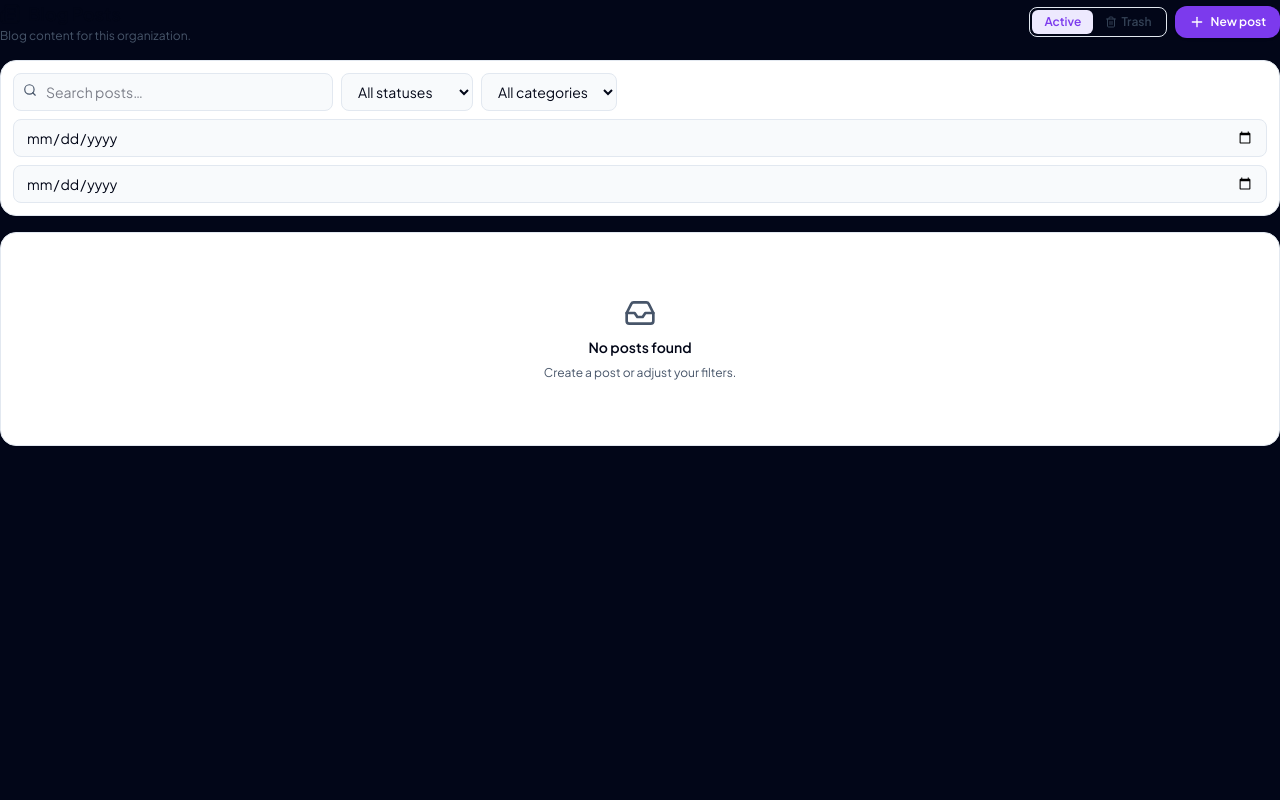
it: PostsPage › creates a post with a selected category/tags through the real API
The width and height of the screenshot is (1280, 800).
Later steps or results of the test are not shown.
Step 1. Click the button "New post" → [1227, 22], box x1=1174 y1=6 x2=1279 y2=38
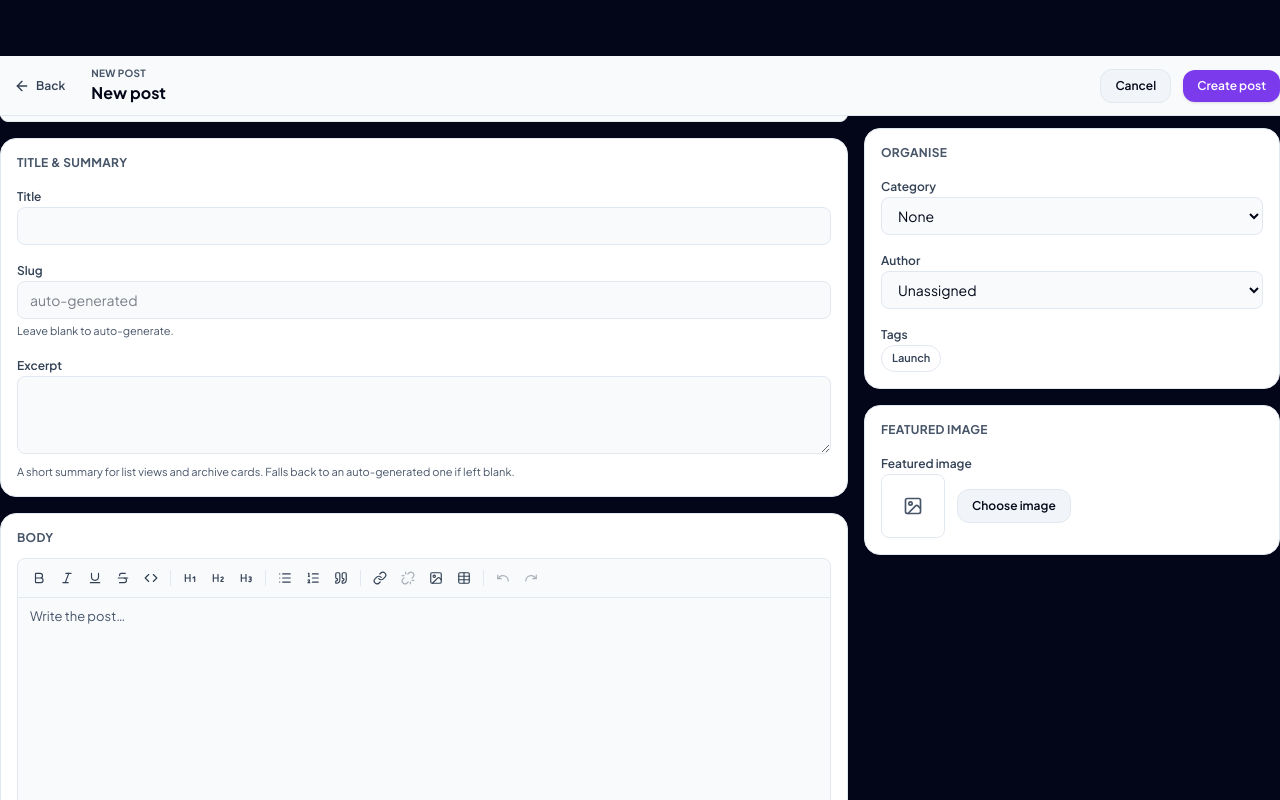
Now the heading "New post" is shown, box x1=91 y1=82 x2=166 y2=103
